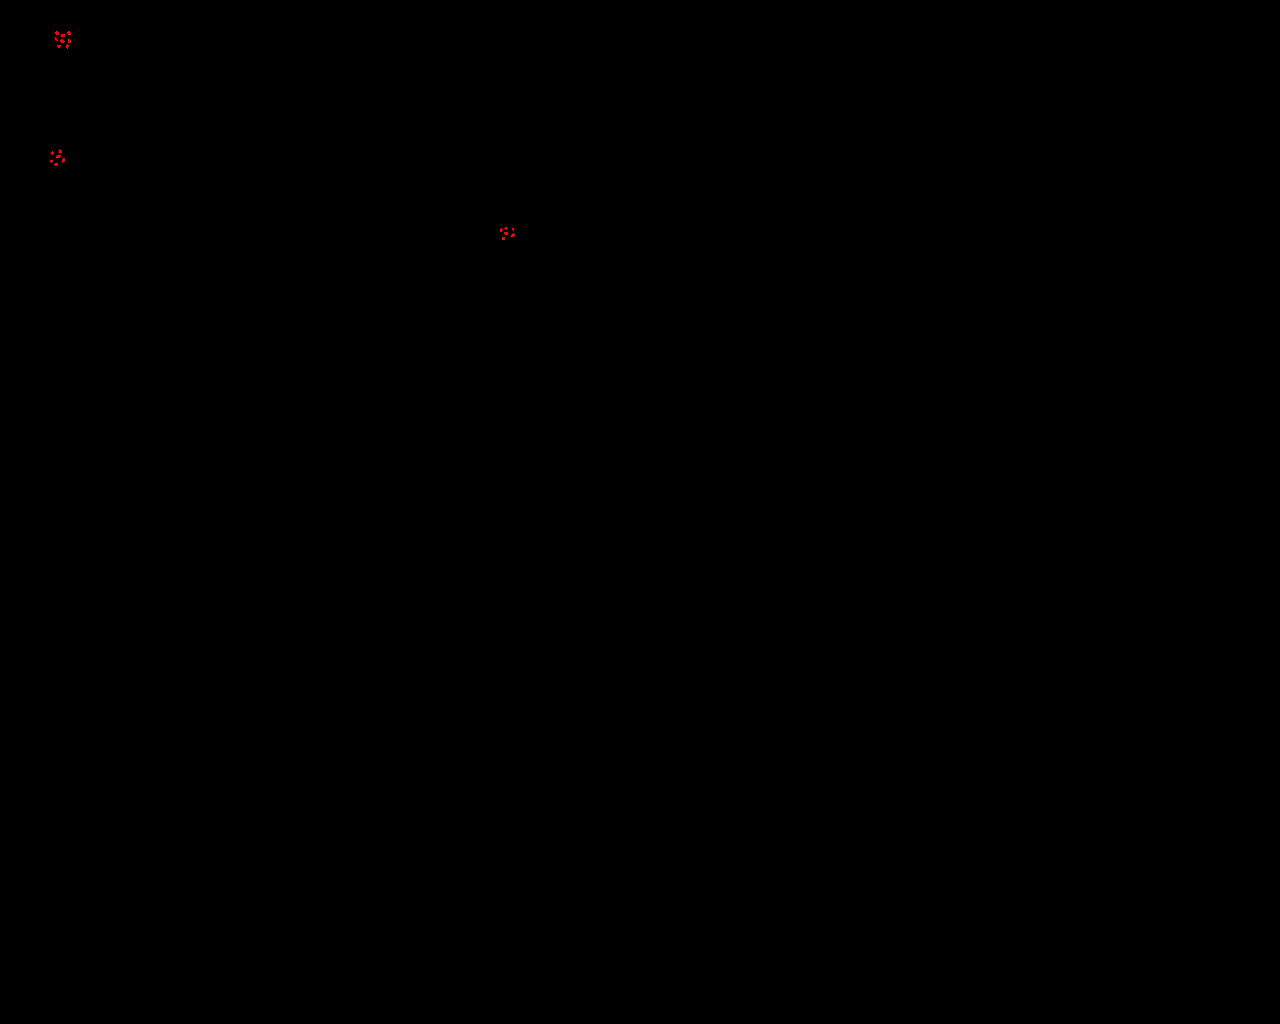Target: (60, 39, 65, 43), (511, 233, 515, 237), (66, 44, 69, 49), (62, 158, 65, 163), (67, 31, 71, 34), (55, 37, 59, 41), (68, 39, 71, 43), (56, 155, 61, 158), (54, 163, 59, 166), (504, 227, 508, 230), (504, 232, 508, 235), (55, 31, 59, 34), (57, 45, 61, 48), (59, 149, 62, 153), (51, 152, 54, 155), (50, 160, 53, 163), (502, 237, 505, 240), (61, 34, 65, 37), (501, 228, 503, 232), (512, 228, 514, 231)
